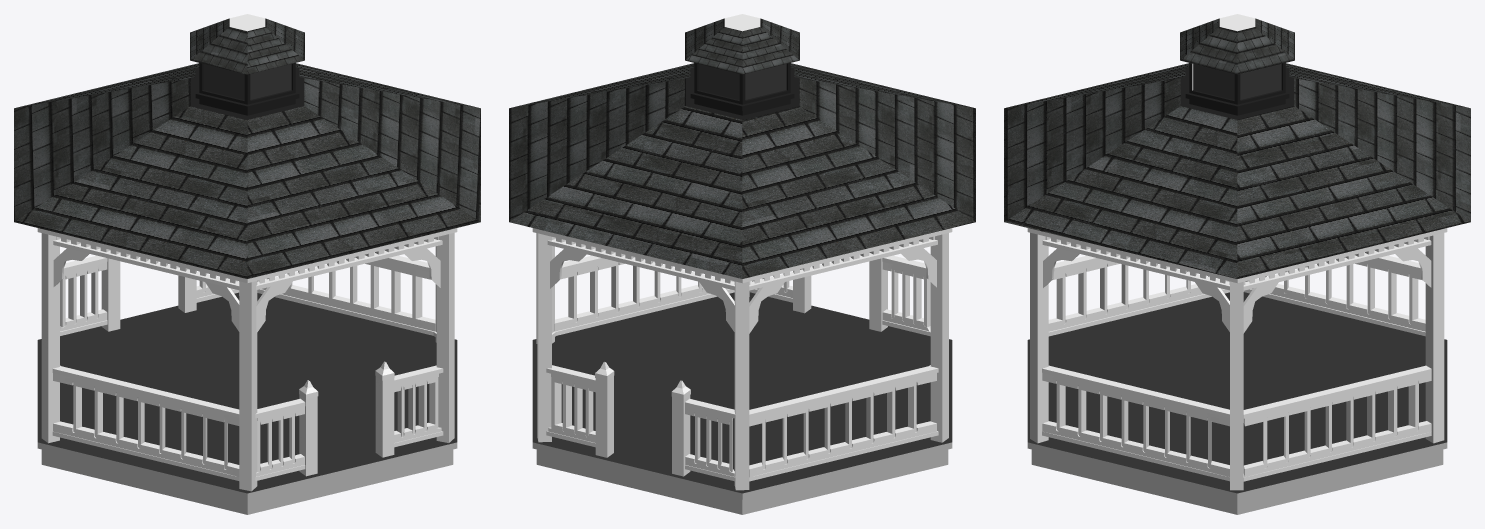
Rendered from env_gazebo.fbx.
The picture shows the model from 3 angles, left to right: view 1: azimuth 30°, elevation 25°; view 2: azimuth 150°, elevation 25°; view 3: azimuth 270°, elevation 25°; orthographic projection.
Parts seen in each view (by area): view 1: 10073_Gazebo_V2_L3; view 2: 10073_Gazebo_V2_L3; view 3: 10073_Gazebo_V2_L3.
Part boxes in pixels (left/top/right/bottom): 10073_Gazebo_V2_L3: left=14, top=14, right=480, bottom=514; 10073_Gazebo_V2_L3: left=509, top=14, right=975, bottom=514; 10073_Gazebo_V2_L3: left=1004, top=14, right=1470, bottom=514.
Bounding box in the file's own units: 1898 × 1522 × 1643.
